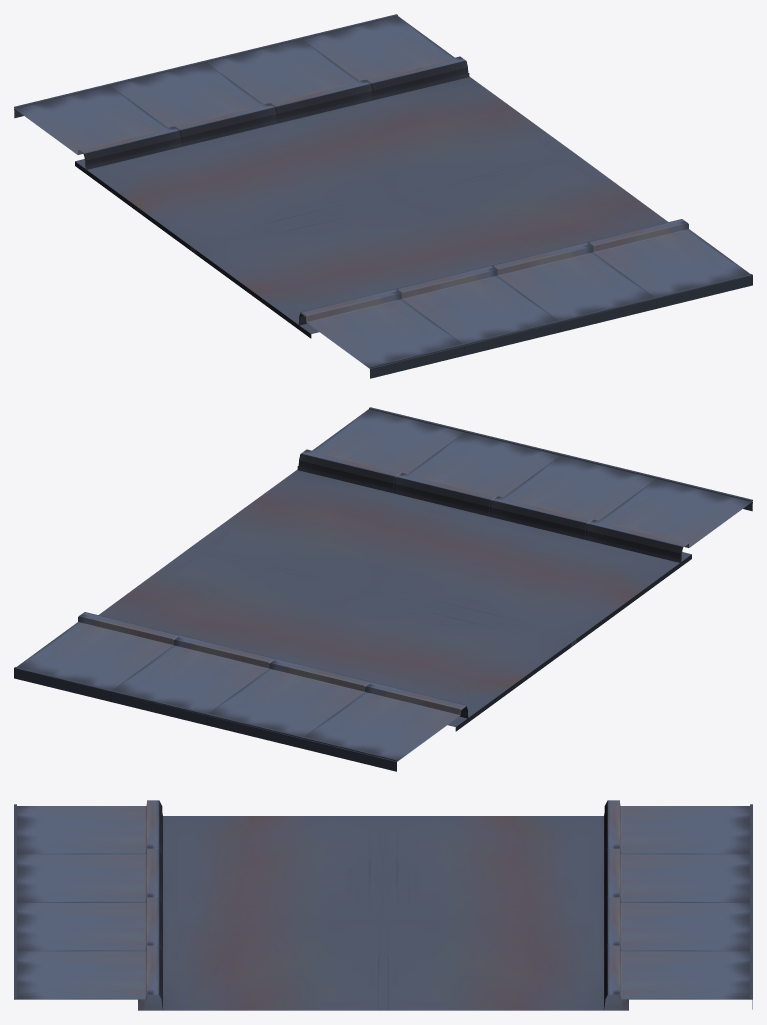
Rendered from Road.fbx.
3 views of the same model, one above another, from view 1: azimuth 30°, elevation 25°; view 2: azimuth 150°, elevation 25°; view 3: azimuth 270°, elevation 25° (orthographic). The views are drawn at different scales.
Visible parts, largest first — view 1: Box003.004; view 2: Box003.004; view 3: Box003.004.
Part boxes in pixels (box(x1,y1,x2,y2)): Box003.004: box(14, 14, 752, 378); Box003.004: box(14, 407, 752, 771); Box003.004: box(14, 800, 752, 1010).
Size of the model in its own units: 1808 by 88.16 by 2899.
Materials: 1 (1 with a texture image).
